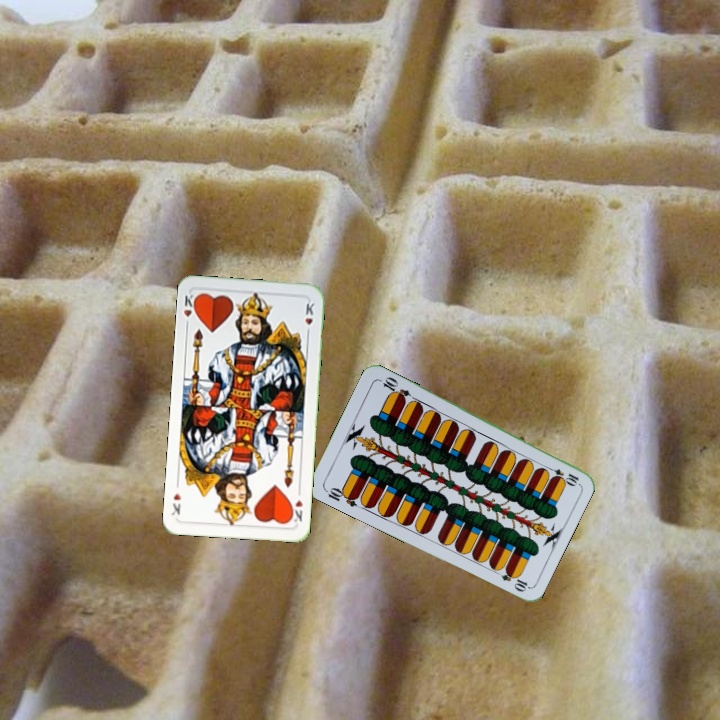E10: (321, 483, 361, 509), (542, 462, 582, 487)
HK: (180, 290, 200, 330), (286, 486, 305, 524)
